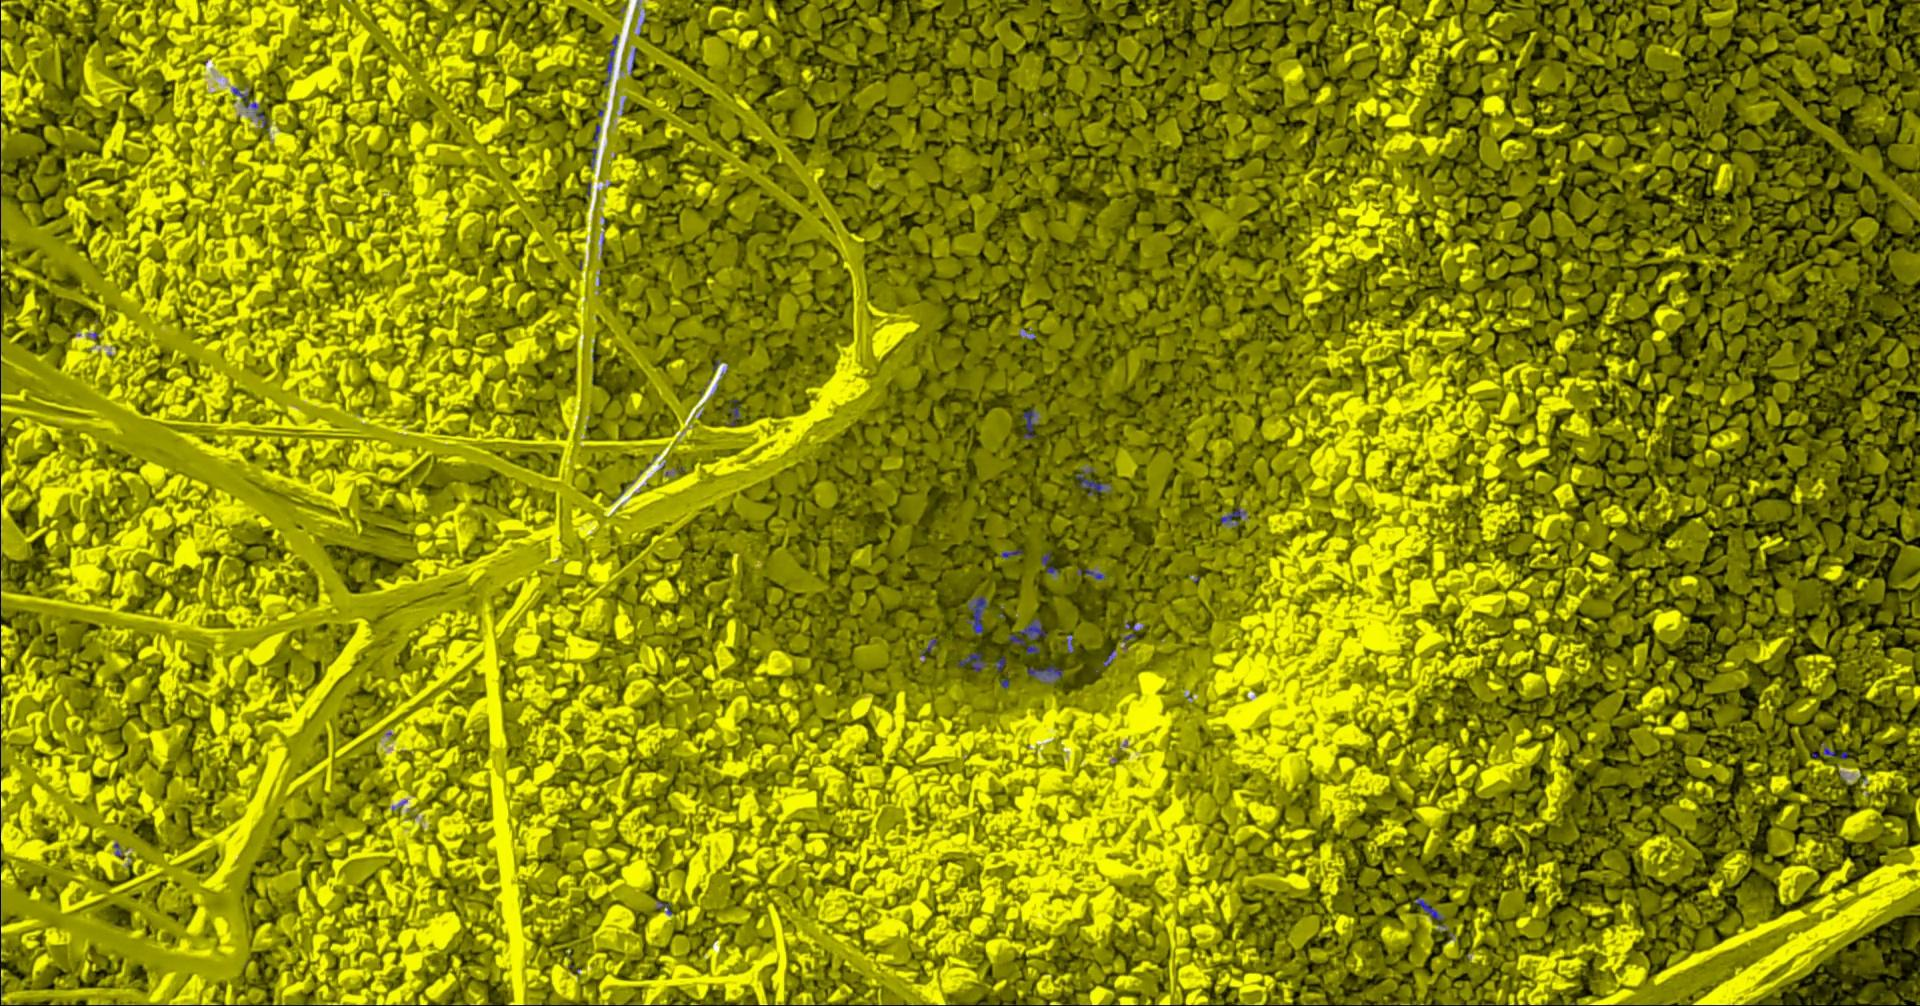ant: (234, 86, 270, 130), (1010, 619, 1049, 654), (1076, 467, 1106, 495), (1415, 897, 1445, 925), (968, 596, 989, 633), (604, 34, 620, 86), (957, 652, 989, 671), (1029, 663, 1064, 680), (1023, 408, 1037, 439), (1222, 508, 1247, 525), (1043, 553, 1060, 573), (1077, 568, 1107, 579), (730, 399, 743, 426), (923, 636, 938, 655), (1124, 621, 1137, 641), (657, 901, 674, 915), (1003, 549, 1023, 558)
